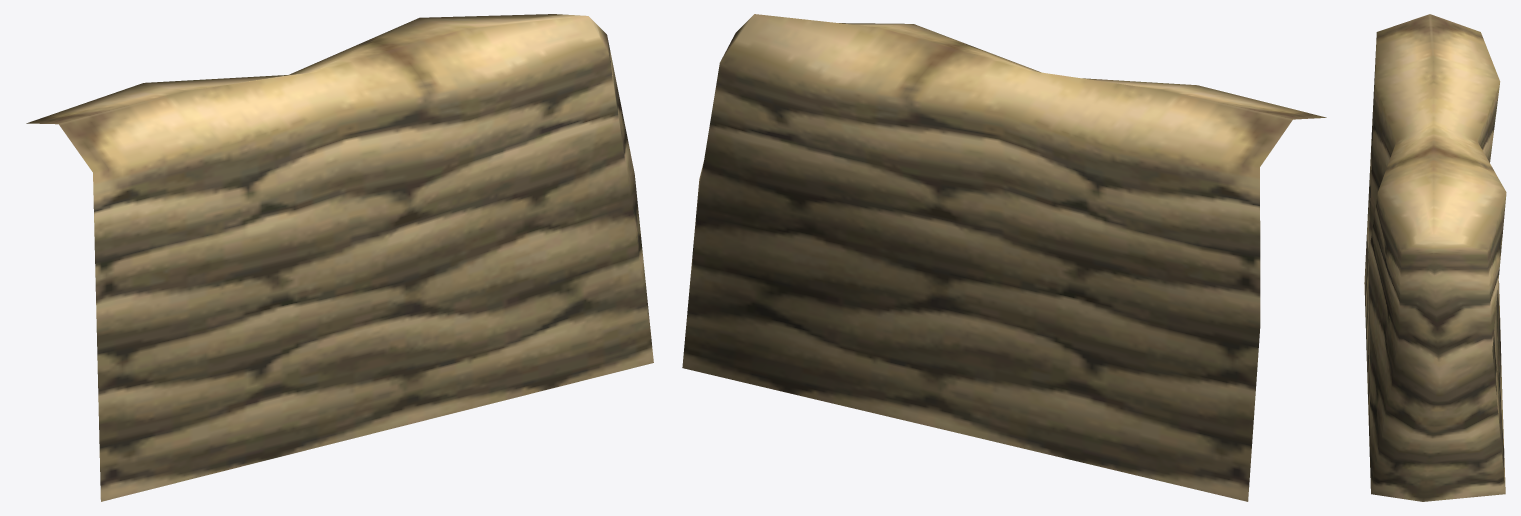
File: SandBags2_High_End2.glb
The picture shows the model from 3 angles, left to right: view 1: azimuth 30°, elevation 25°; view 2: azimuth 150°, elevation 25°; view 3: azimuth 270°, elevation 25°; orthographic projection. The views are drawn at different scales.
Visible parts, largest first — view 1: SANDBAGS2_HIGH_END2; view 2: SANDBAGS2_HIGH_END2; view 3: SANDBAGS2_HIGH_END2.
Boxes of the visible parts, bbox=[...] form: SANDBAGS2_HIGH_END2: bbox=[26, 14, 653, 501]; SANDBAGS2_HIGH_END2: bbox=[682, 14, 1326, 501]; SANDBAGS2_HIGH_END2: bbox=[1364, 14, 1506, 501].
Bounding box in the file's own units: 1.99 × 1.14 × 0.542.
1 material, 1 textured.
